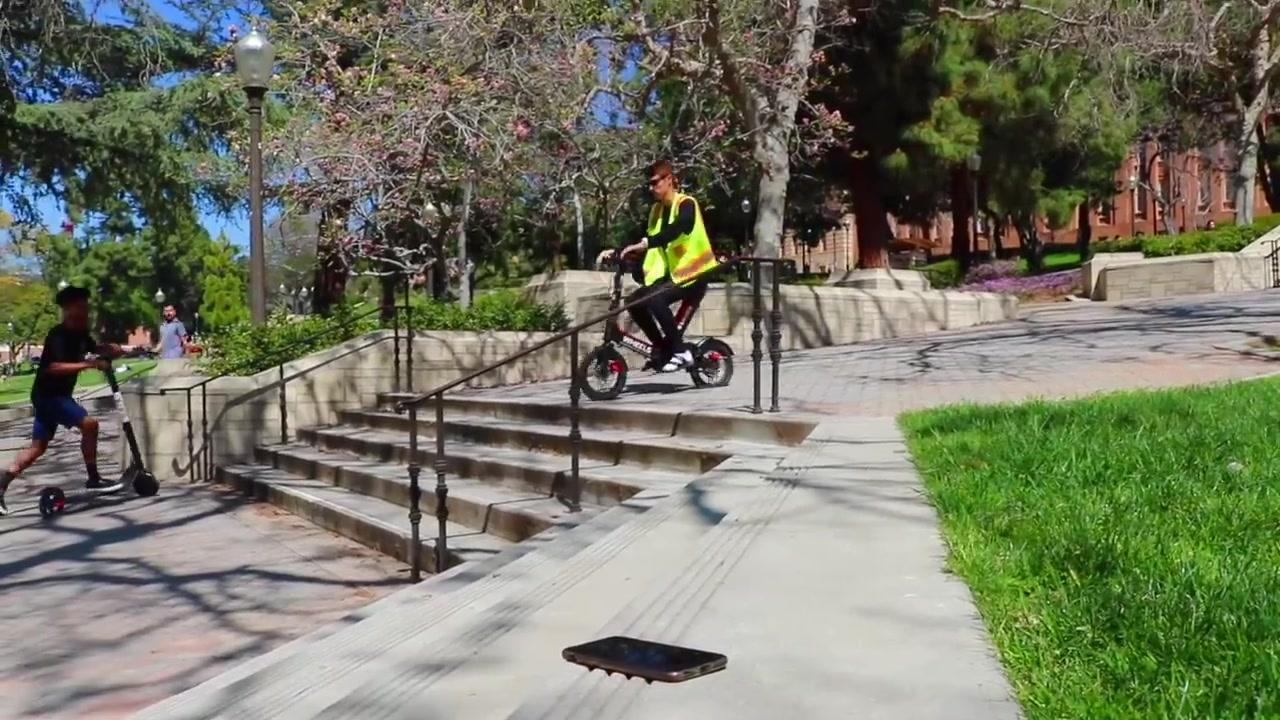vest: (640, 195, 722, 286)
